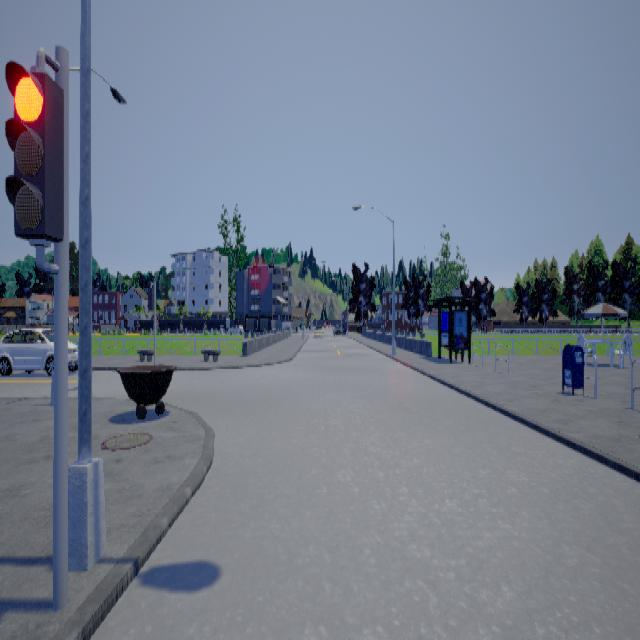red_light: (6, 45, 65, 273)
vehicle: (1, 318, 79, 374)
